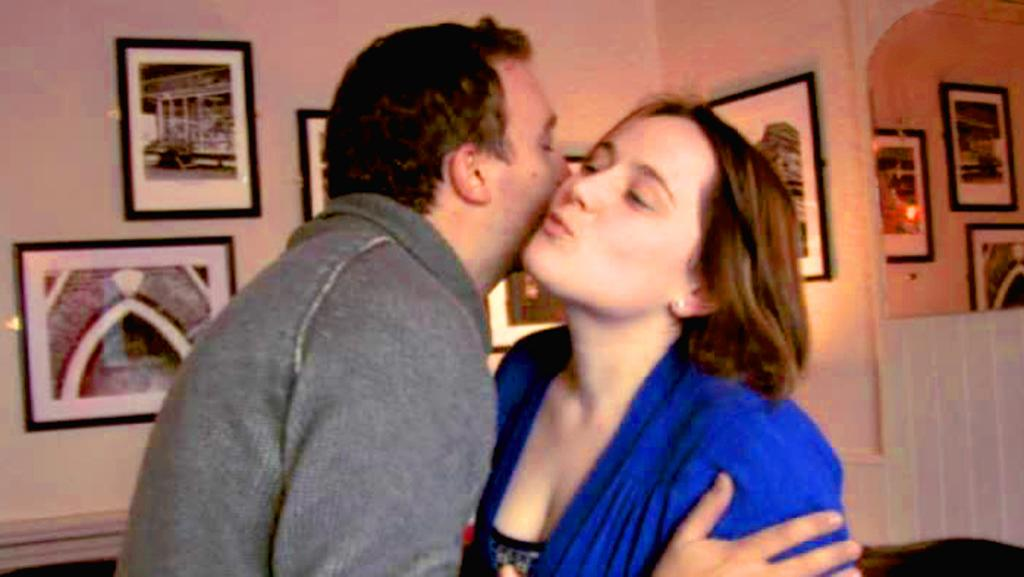face: (522, 112, 714, 316), (490, 56, 572, 276)
